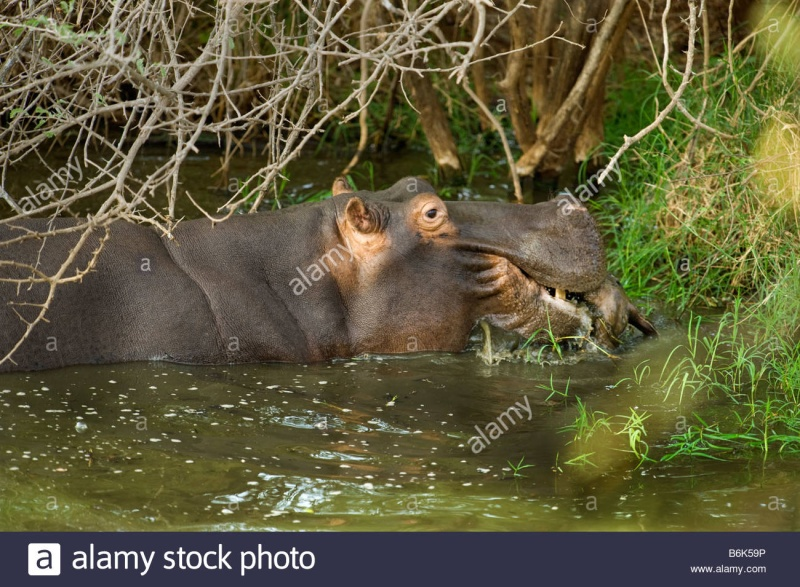hipopotamo: (0, 176, 629, 382)
